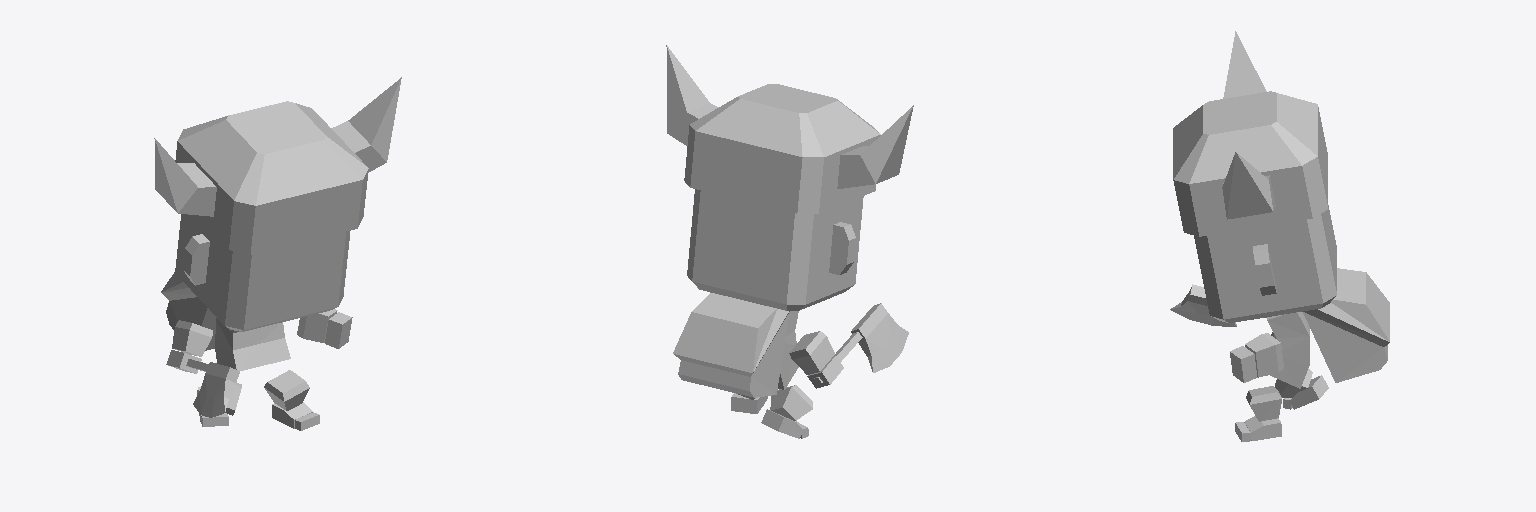
File: mini_knight_000018.obj
3 views of the same model, side by side, from view 1: azimuth 30°, elevation 25°; view 2: azimuth 150°, elevation 25°; view 3: azimuth 270°, elevation 25° (orthographic).
Visible parts, largest first — view 1: cap_Object01_Material__3, Mesh_objheadusOBJexport_Material, axe_Object02_Material__3, back_Object03_Material__3; view 2: cap_Object01_Material__3, Mesh_objheadusOBJexport_Material, back_Object03_Material__3, axe_Object02_Material__3; view 3: cap_Object01_Material__3, Mesh_objheadusOBJexport_Material, back_Object03_Material__3, axe_Object02_Material__3.
Part boxes in pixels (left/top/right/bottom): cap_Object01_Material__3: left=154, top=77, right=401, bottom=254; Mesh_objheadusOBJexport_Material: left=166, top=214, right=352, bottom=430; axe_Object02_Material__3: left=186, top=359, right=239, bottom=417; back_Object03_Material__3: left=161, top=272, right=216, bottom=350; cap_Object01_Material__3: left=666, top=45, right=913, bottom=213; Mesh_objheadusOBJexport_Material: left=687, top=189, right=863, bottom=438; back_Object03_Material__3: left=673, top=293, right=789, bottom=397; axe_Object02_Material__3: left=813, top=303, right=908, bottom=384; cap_Object01_Material__3: left=1173, top=31, right=1327, bottom=236; Mesh_objheadusOBJexport_Material: left=1194, top=205, right=1336, bottom=441; back_Object03_Material__3: left=1303, top=268, right=1389, bottom=382; axe_Object02_Material__3: left=1170, top=284, right=1266, bottom=326.
Bounding box in the file's own units: 1.94 × 2.47 × 1.5.